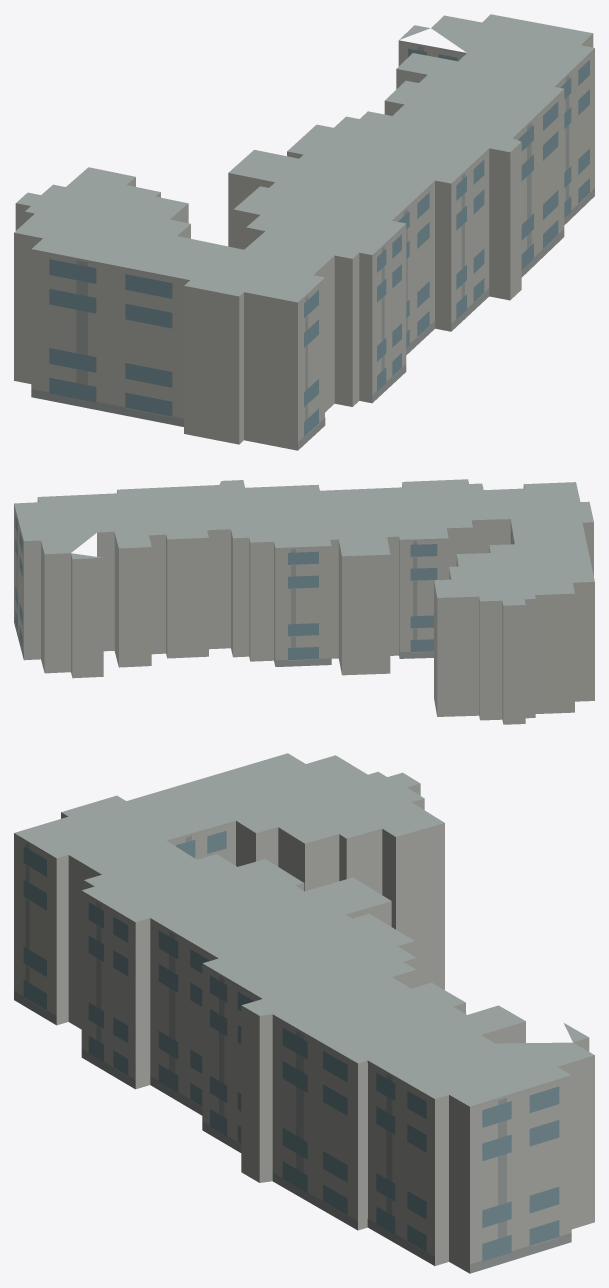
The model's file is residential-f5743588-5725-4137-9f3a-377860665588.glb.
3 views of the same model, one above another, from view 1: azimuth 30°, elevation 25°; view 2: azimuth 150°, elevation 25°; view 3: azimuth 270°, elevation 25° (orthographic). The views are drawn at different scales.
Parts seen in each view (by area): view 1: residential-f5743588-5725-4137-9f3a-377860665588.tmp; view 2: residential-f5743588-5725-4137-9f3a-377860665588.tmp; view 3: residential-f5743588-5725-4137-9f3a-377860665588.tmp.
Part boxes in pixels (bbox=[...]): residential-f5743588-5725-4137-9f3a-377860665588.tmp: bbox=[14, 14, 594, 450]; residential-f5743588-5725-4137-9f3a-377860665588.tmp: bbox=[14, 479, 594, 724]; residential-f5743588-5725-4137-9f3a-377860665588.tmp: bbox=[14, 753, 594, 1273].
Bounding box in the file's own units: 69.2 × 15.25 × 48.06.
